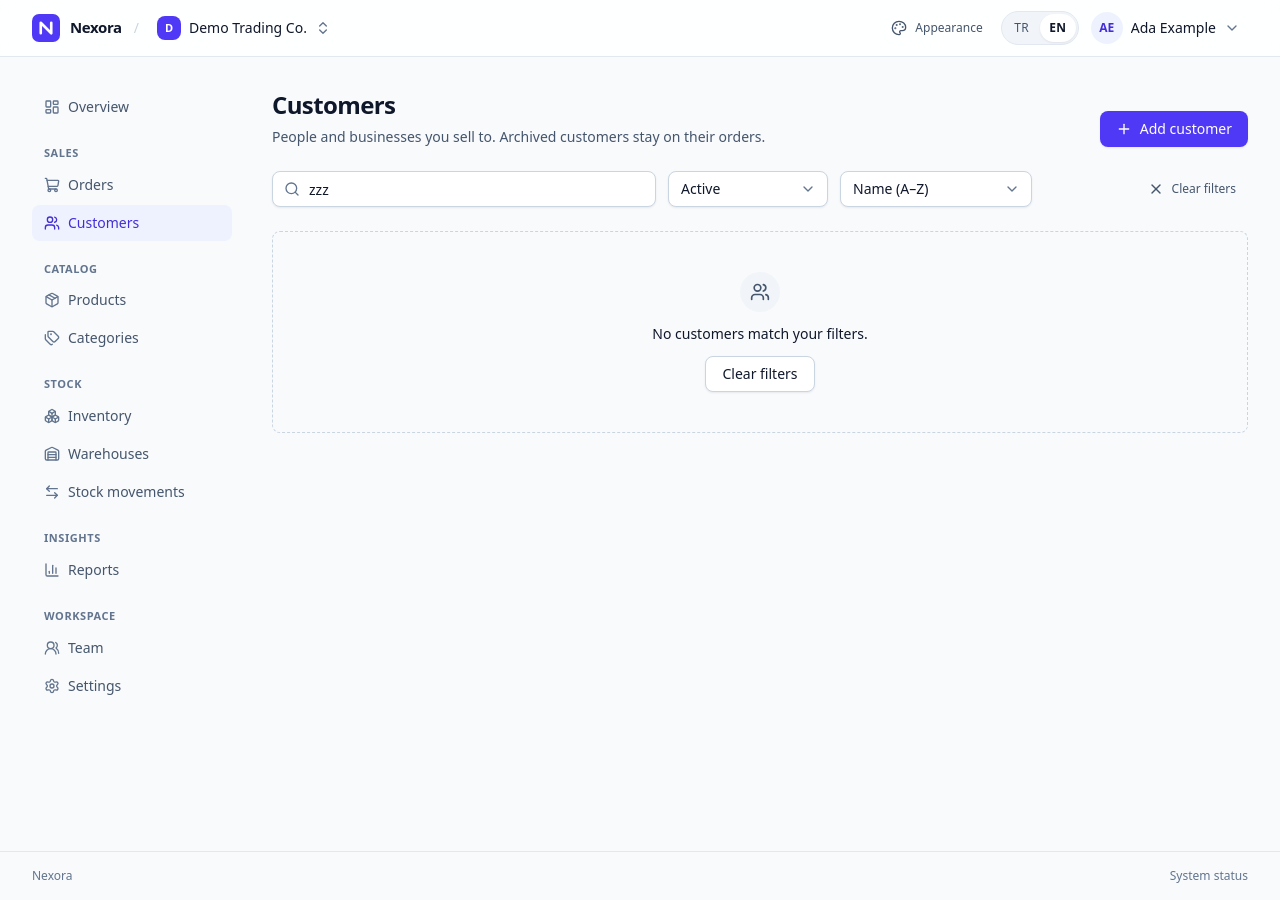
CustomersPage › shows the empty state and the filtered empty state
The image size is (1280, 900).
Expected: the heading "Customers" is shown, [272, 88, 395, 121]
Expected: the text "No customers match your filters." is shown, [652, 324, 868, 344]
Click the 1st button "Clear filters" at (1192, 189), box [1136, 173, 1248, 205]
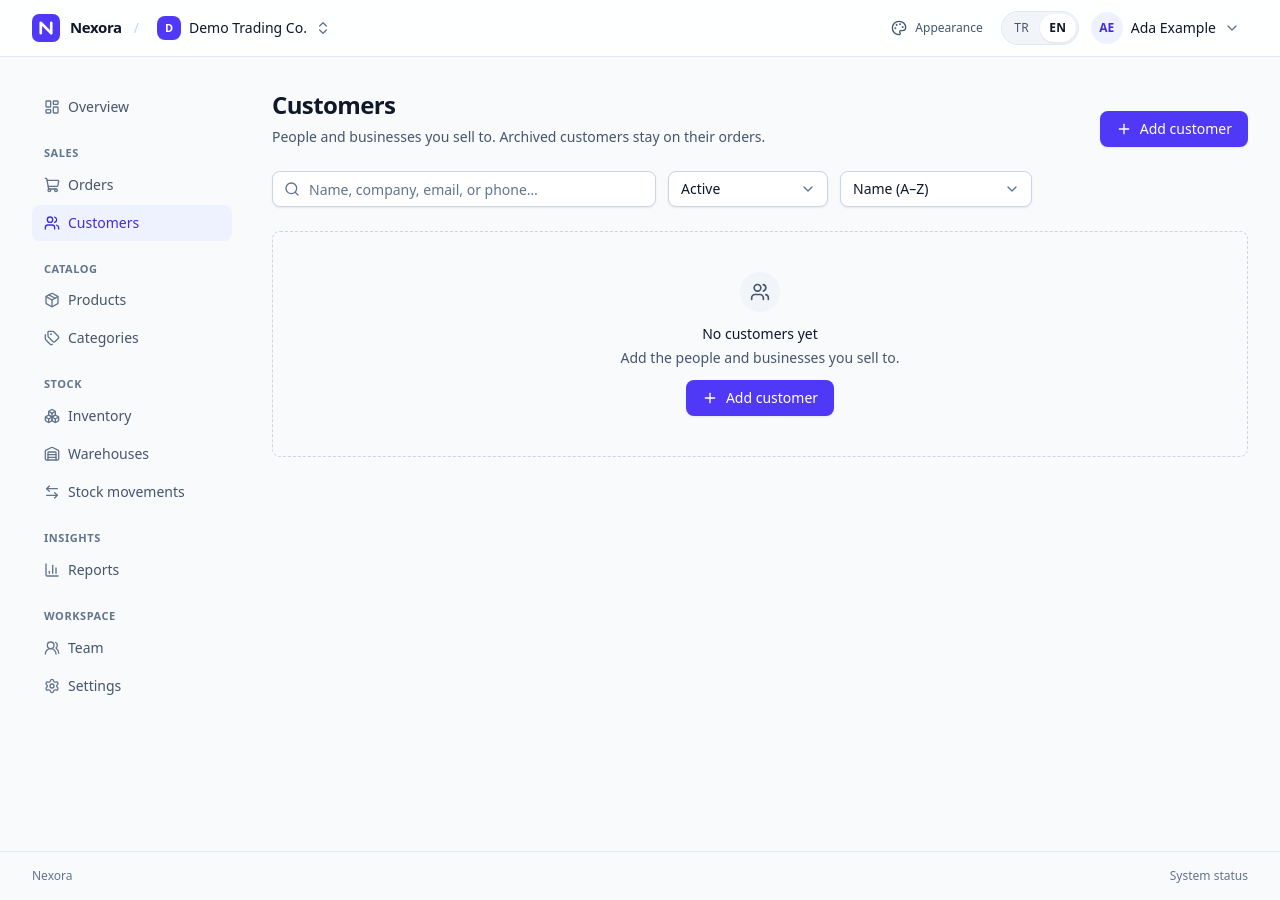
Expected: the text "No customers yet" is shown, [702, 324, 818, 343]
